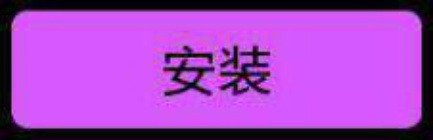Button: (1, 1, 432, 139)
